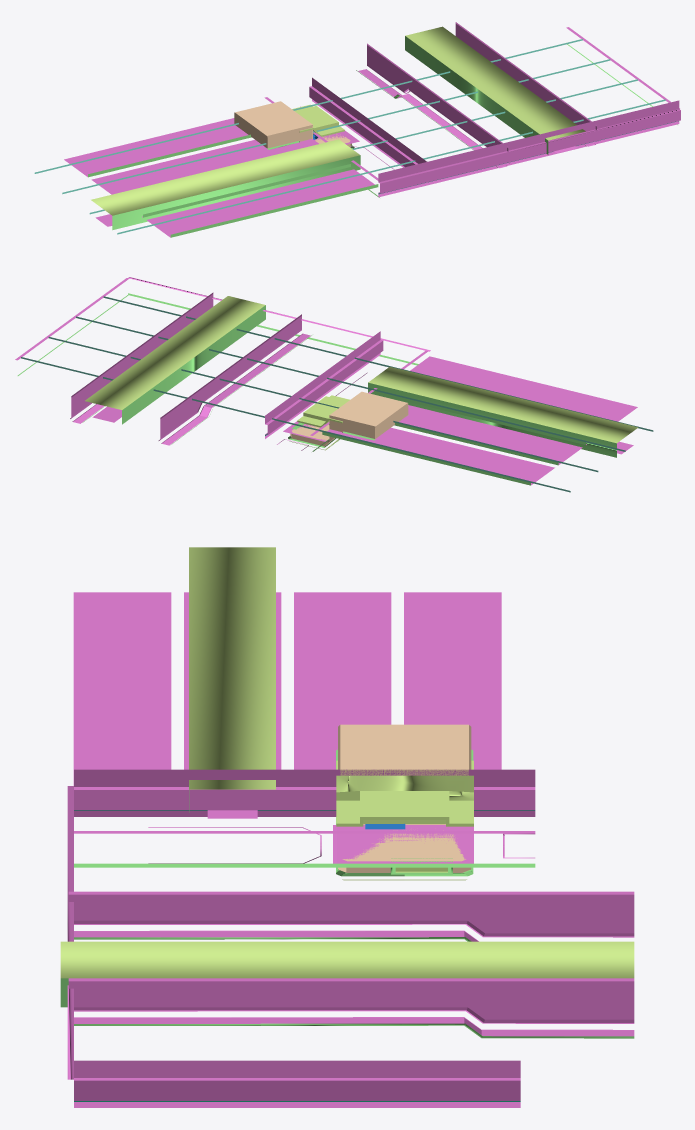
Rendered from docking_lobby_ceiling_a_lod2.glb.
3 renders of one model, top to bottom at view 1: azimuth 30°, elevation 25°; view 2: azimuth 150°, elevation 25°; view 3: azimuth 270°, elevation 25°, orthographic. The views are drawn at different scales.
Bounding box in the file's own units: 46.24 × 3 × 20.83.
